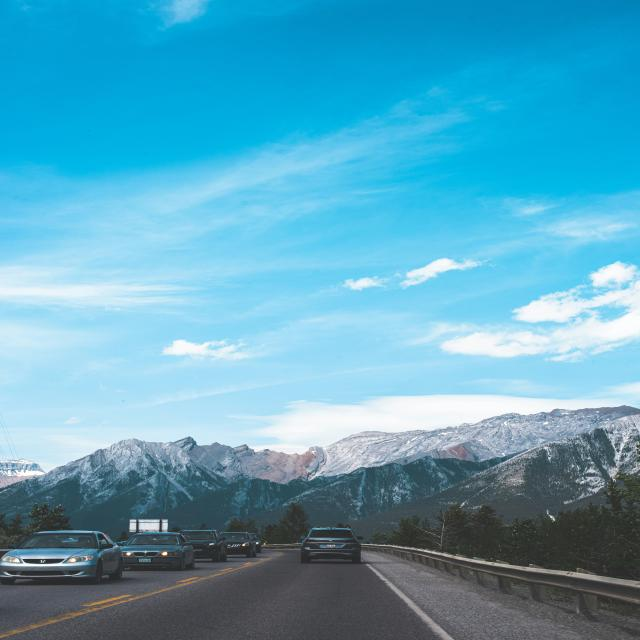Car: (0, 530, 124, 585), (119, 532, 195, 570), (300, 526, 363, 564), (179, 529, 227, 562), (220, 532, 260, 557)
